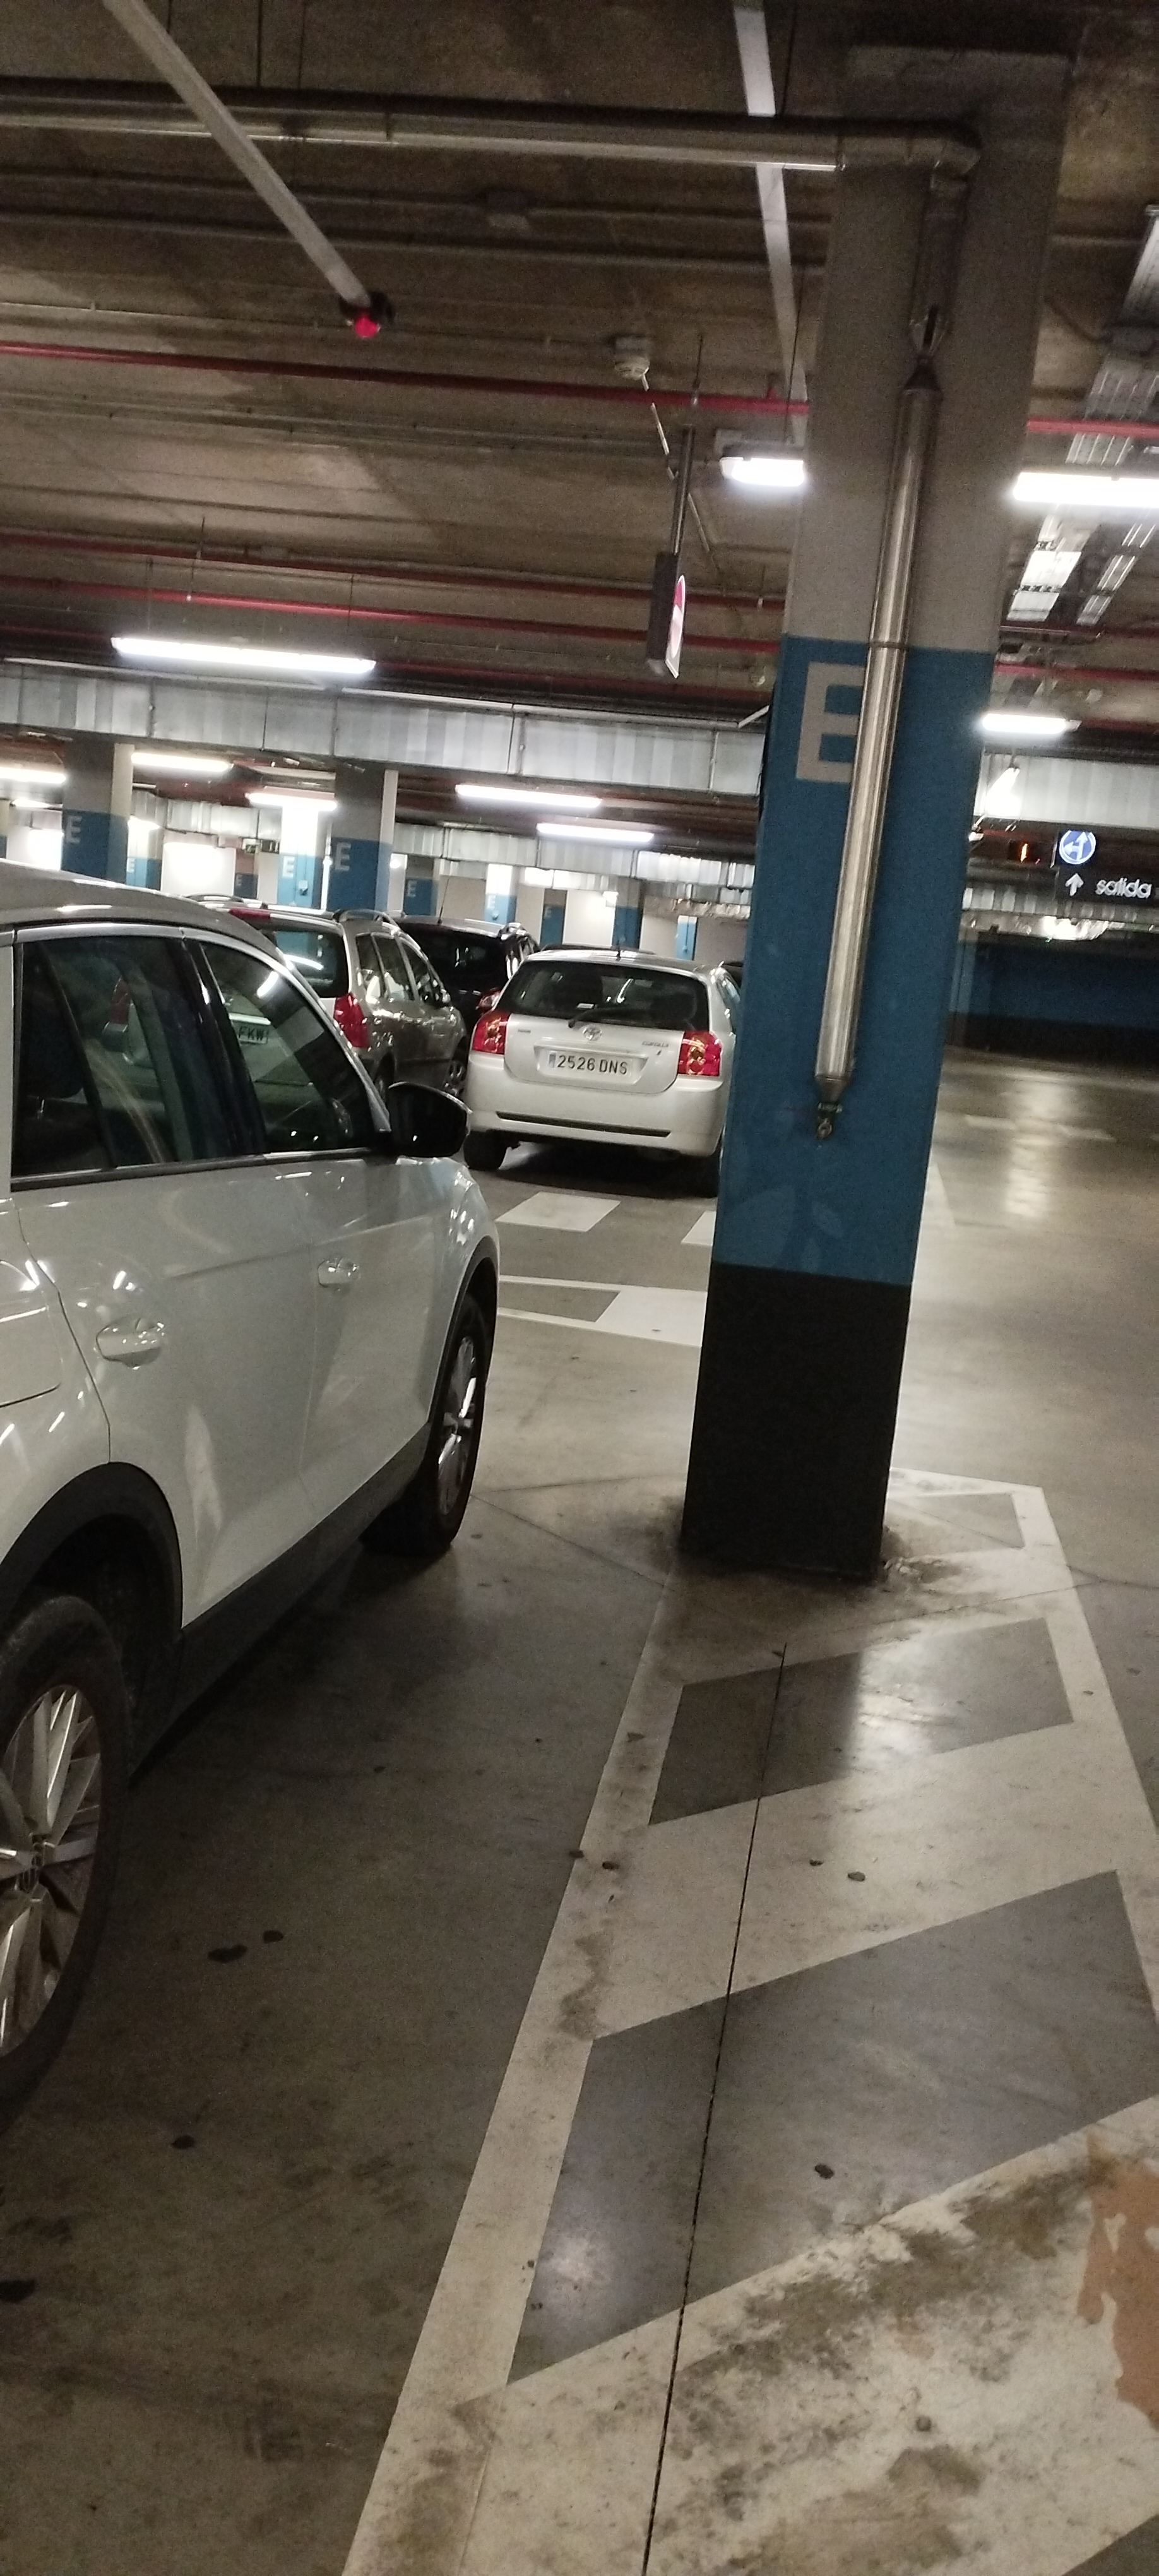Car: (468, 934, 734, 1184)
Plate: (547, 1048, 634, 1073)
